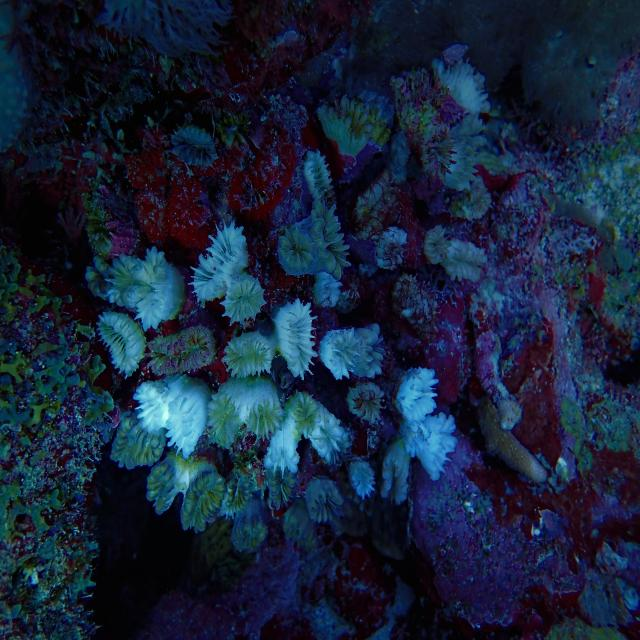Coral: (84, 55, 492, 556)
